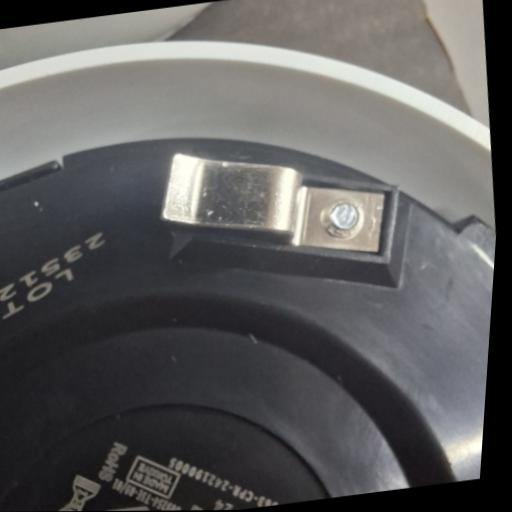yaysiz: (147, 123, 401, 281)
